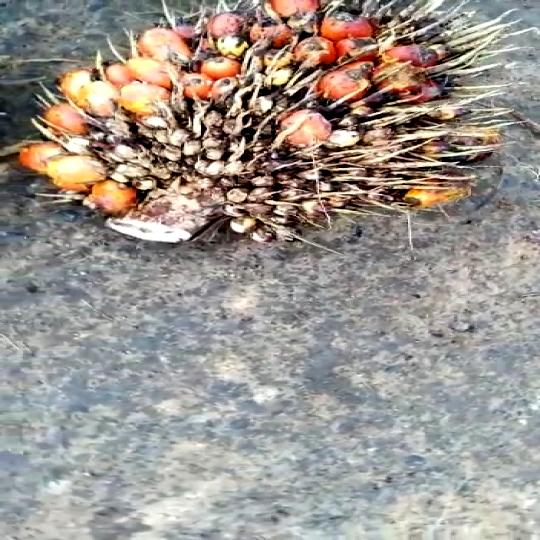masak: (7, 0, 539, 261)
